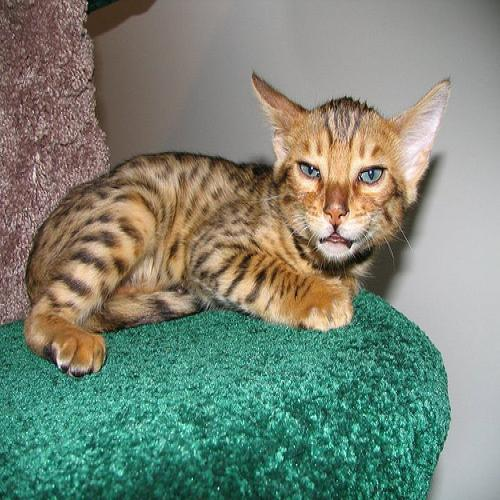bengal: (244, 65, 456, 288)
